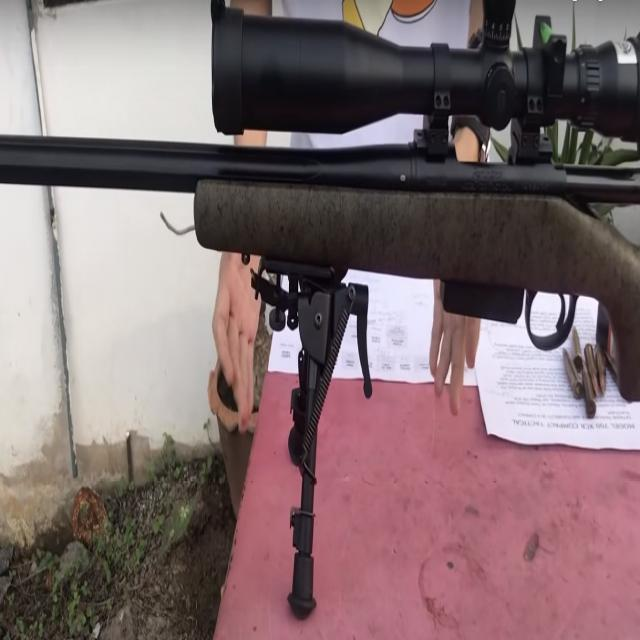rifle: (4, 6, 640, 618)
